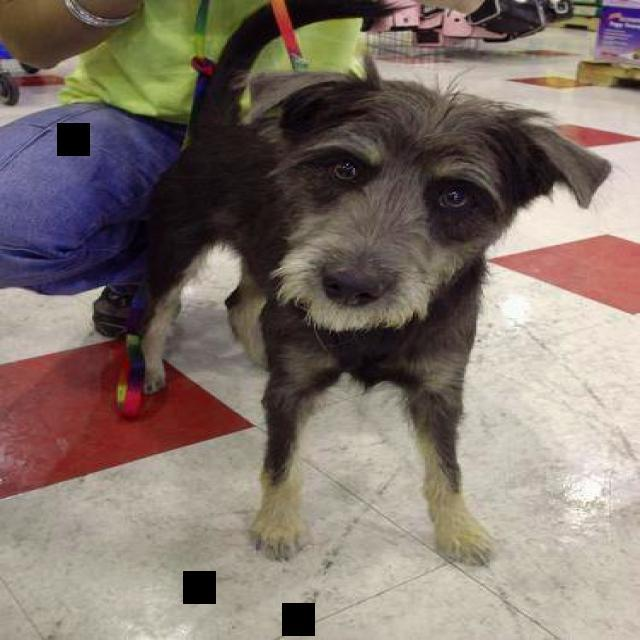adult_dog: (127, 8, 608, 574)
